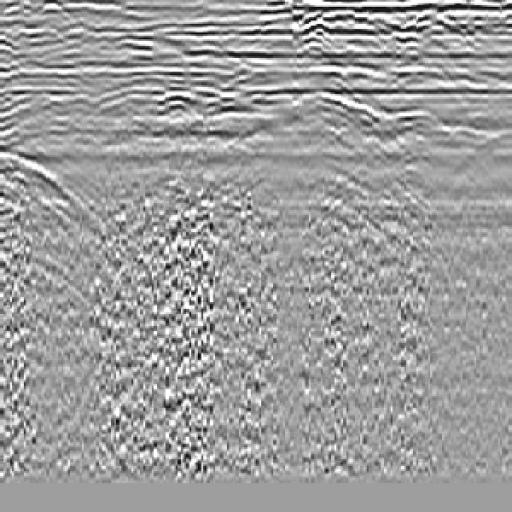metalic: (201, 81, 261, 130)
